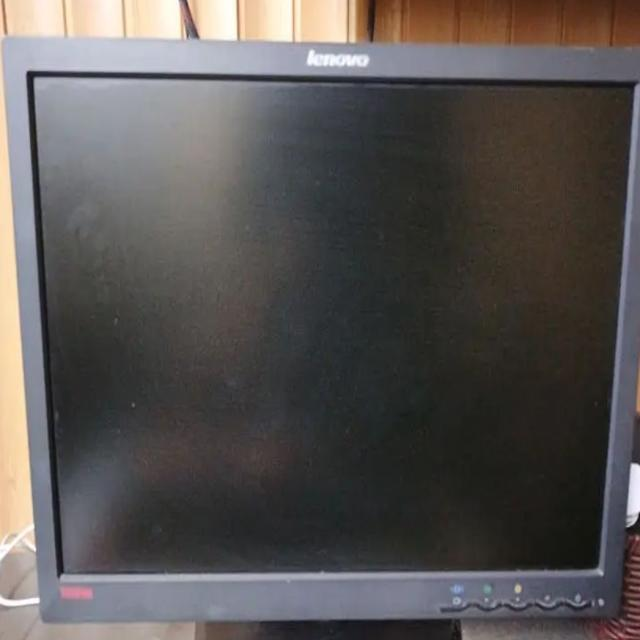electronic: (3, 35, 638, 625)
